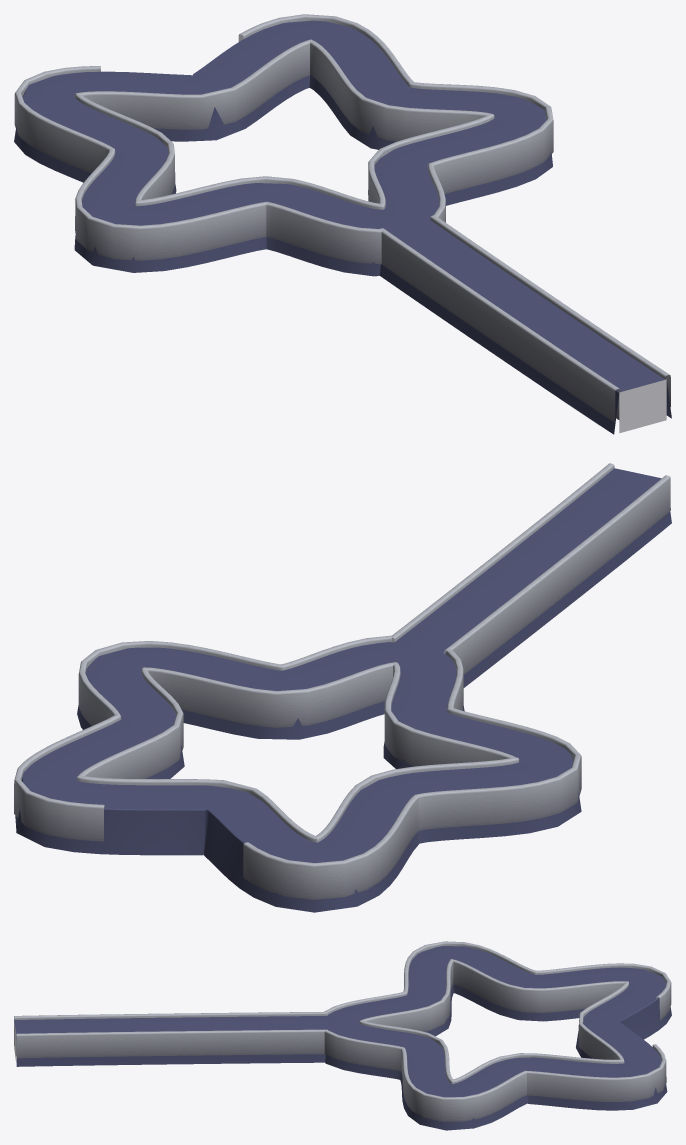
Rendered from map3.fbx.
The picture shows the model from 3 angles, top to bottom: view 1: azimuth 30°, elevation 25°; view 2: azimuth 150°, elevation 25°; view 3: azimuth 270°, elevation 25°; orthographic projection. The views are drawn at different scales.
Visible parts, largest first — view 1: Circle__1_, Path; view 2: Circle__1_, Path; view 3: Circle__1_, Path.
Boxes of the visible parts, left/top/right/bottom form: Circle__1_: left=14, top=14, right=553, bottom=276; Path: left=380, top=215, right=671, bottom=434; Circle__1_: left=14, top=635, right=581, bottom=912; Path: left=390, top=463, right=671, bottom=687; Circle__1_: left=324, top=941, right=671, bottom=1130; Path: left=14, top=1012, right=327, bottom=1066.
Size of the model in its own units: 2495 by 230 by 4379.
